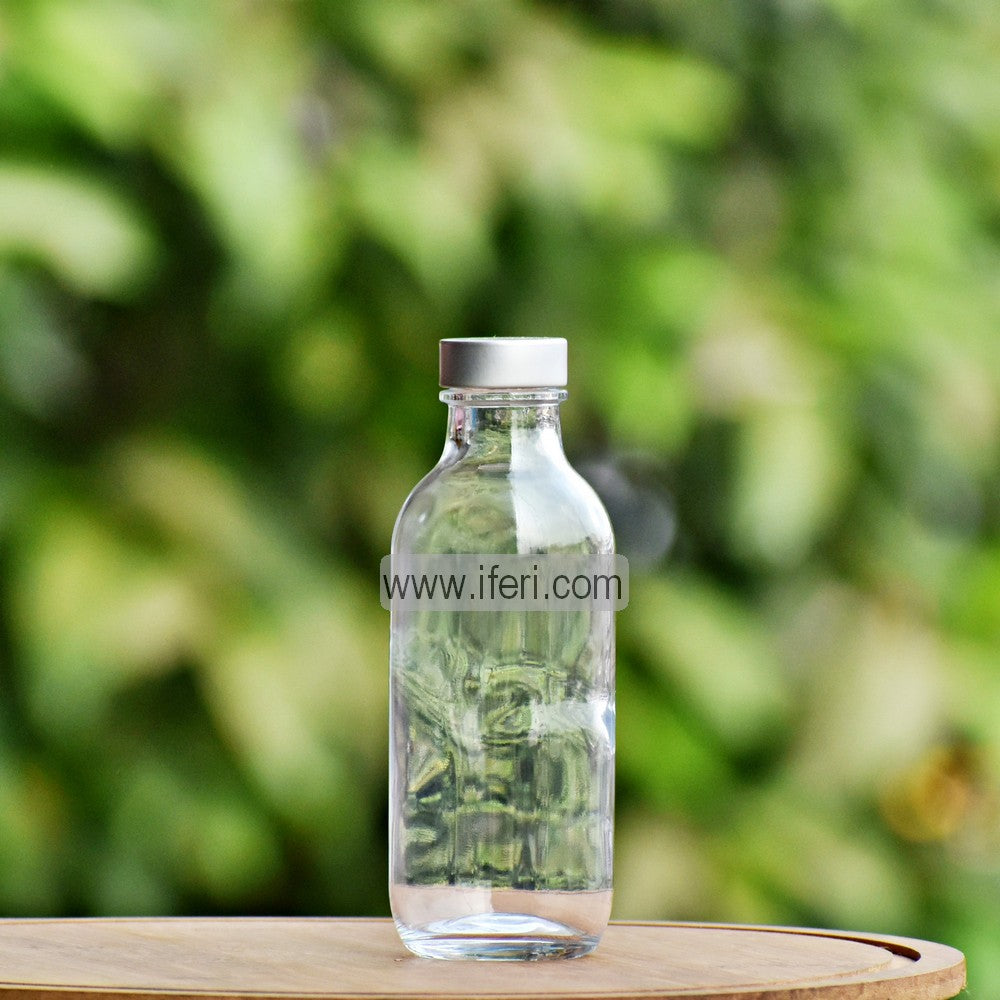glass_bottle: (362, 316, 640, 973)
